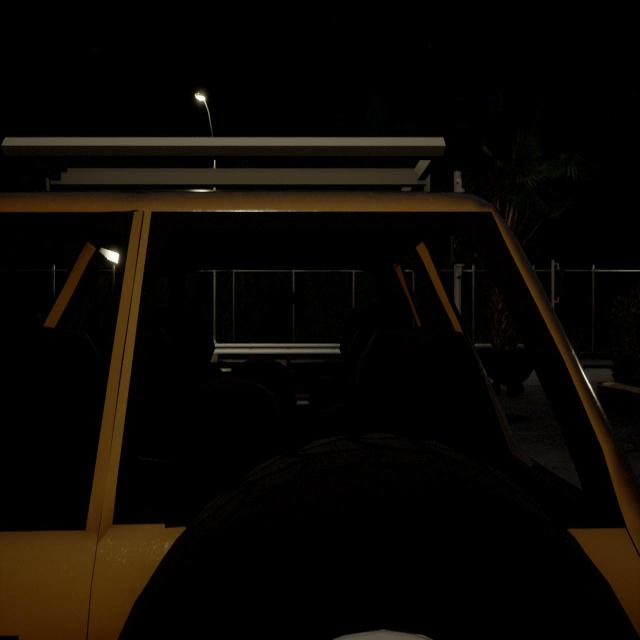Vehicle: (0, 138, 640, 639)
traffic_light: (454, 193, 468, 268), (554, 269, 564, 303)
